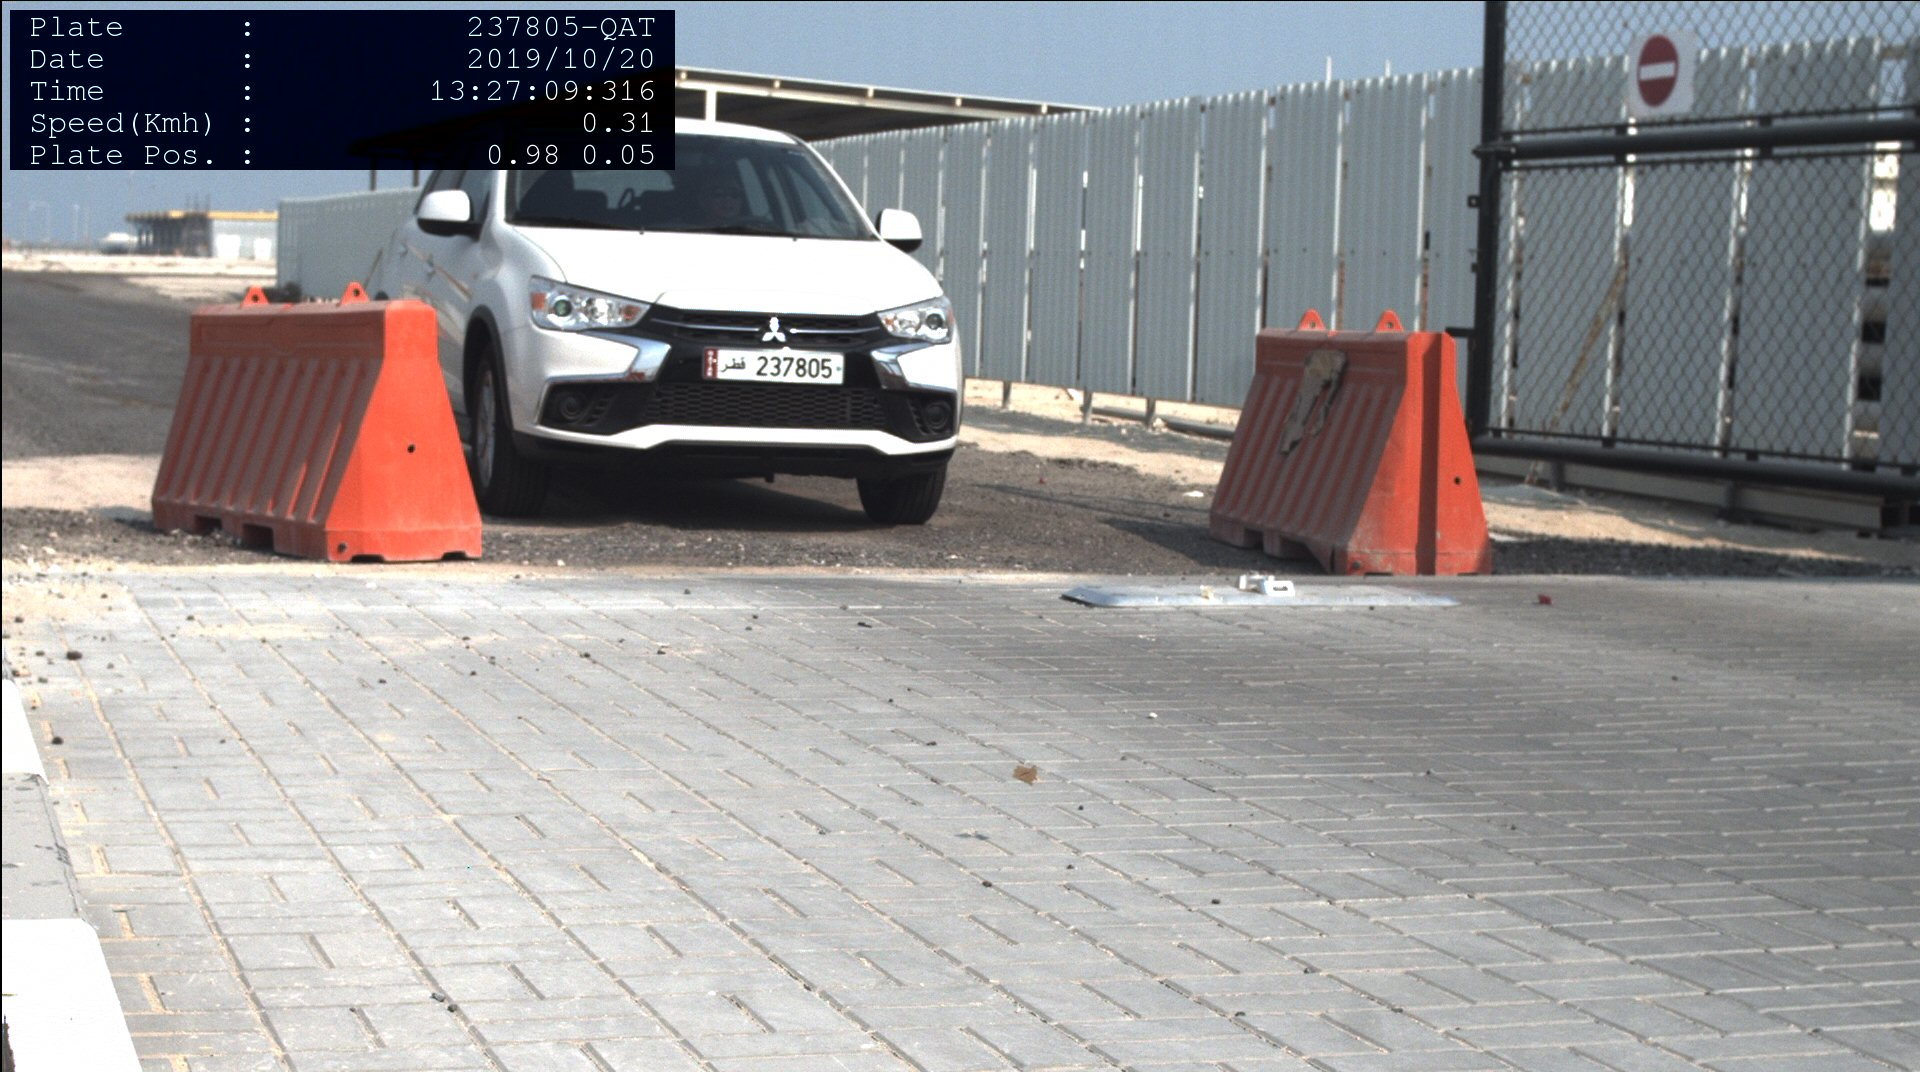License Plate: (703, 347, 847, 386)
